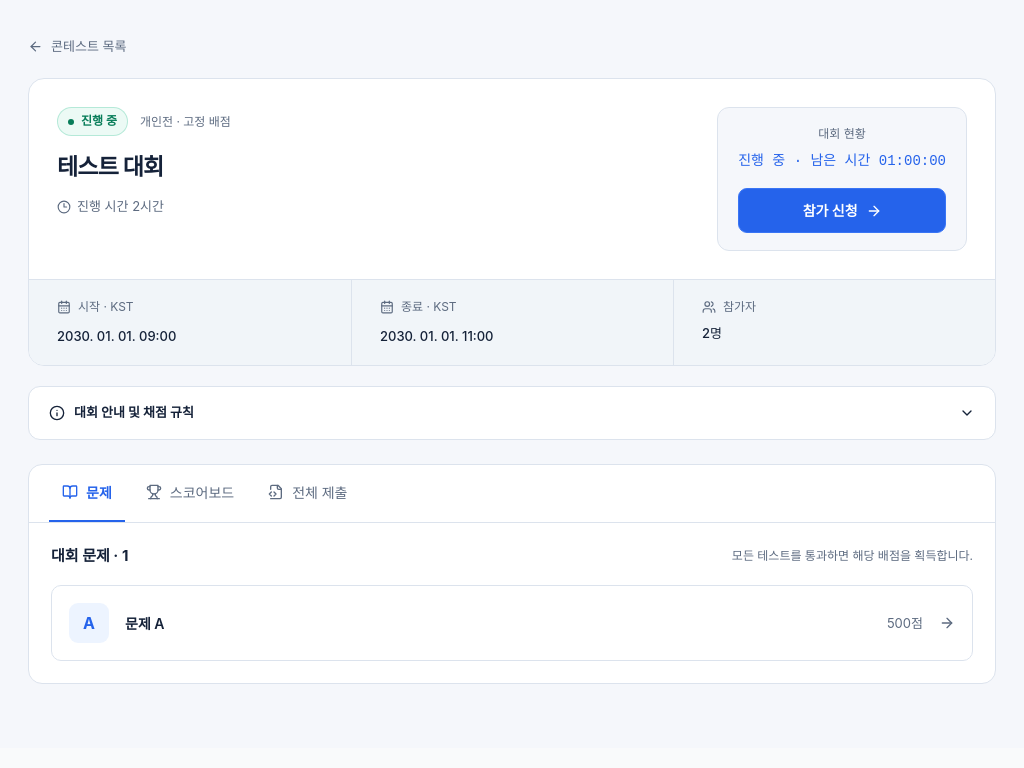
Scenario: contest pages › lets an administrator review every submission through the admin endpoints
Expected: the heading "테스트 대회" is shown, top-left (57, 153), bottom-right (163, 181)
Click the button "전체 제출": (308, 493) top-left (255, 465), bottom-right (360, 522)
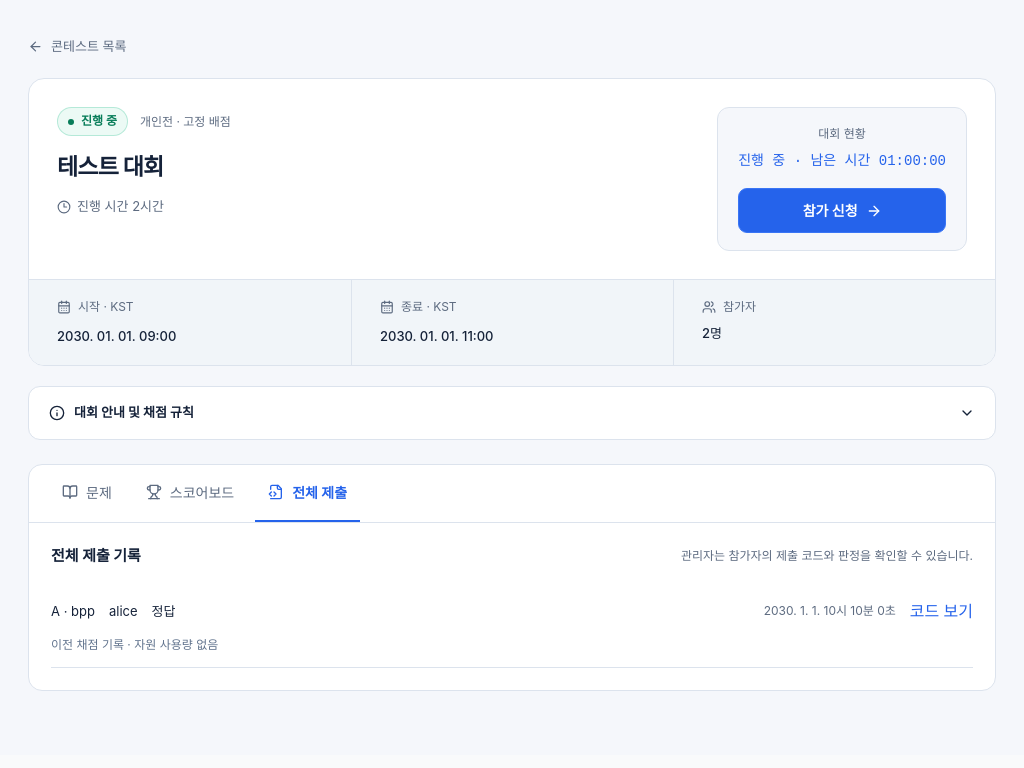
Now the heading "전체 제출 기록" is shown, box top-left (51, 545), bottom-right (141, 567)
Now the text "alice" is shown, box top-left (109, 602), bottom-right (138, 621)
Click the button "코드 보기": (941, 611) top-left (910, 599), bottom-right (973, 623)
(page scrolled)
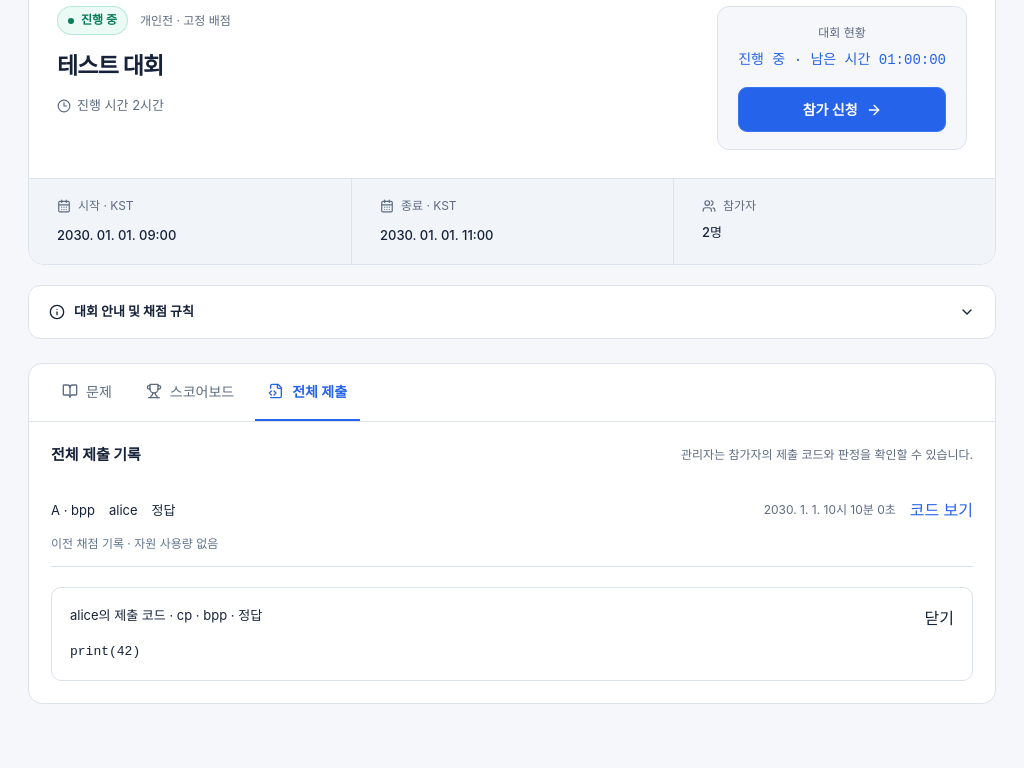
Now the text "print(42)" is shown, box top-left (70, 644), bottom-right (140, 659)
